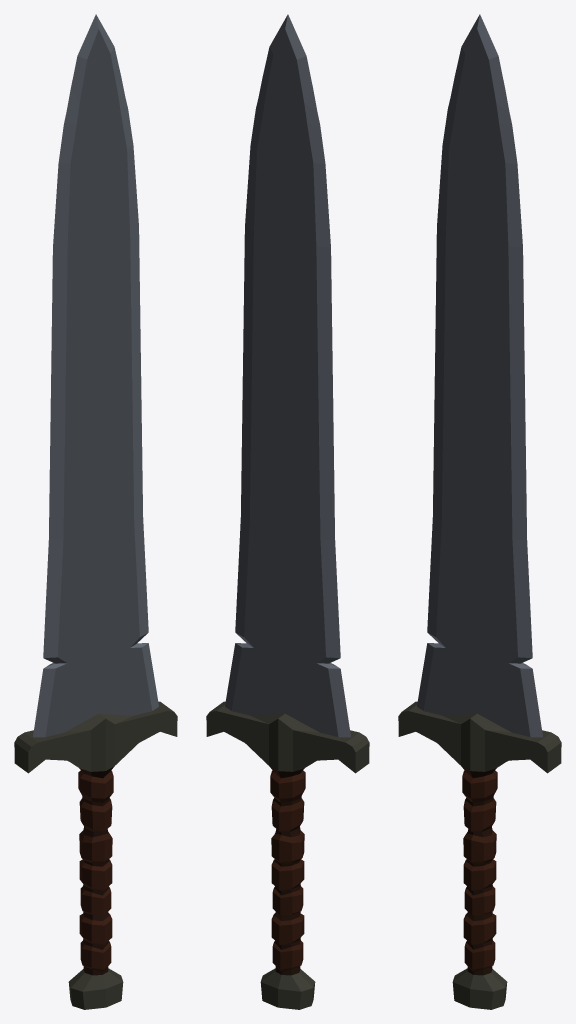
File: Sword_Big.obj
The picture shows the model from 3 angles, left to right: view 1: azimuth 30°, elevation 25°; view 2: azimuth 150°, elevation 25°; view 3: azimuth 330°, elevation 25°; orthographic projection.
Visible parts, largest first — view 1: Sword_big_Cylinder.009; view 2: Sword_big_Cylinder.009; view 3: Sword_big_Cylinder.009.
Boxes of the visible parts, <box> form: Sword_big_Cylinder.009: <box>14,14,177,1009</box>; Sword_big_Cylinder.009: <box>206,14,369,1009</box>; Sword_big_Cylinder.009: <box>398,14,561,1009</box>.
Bounding box in the file's own units: 1.02 × 6.44 × 0.2386.
